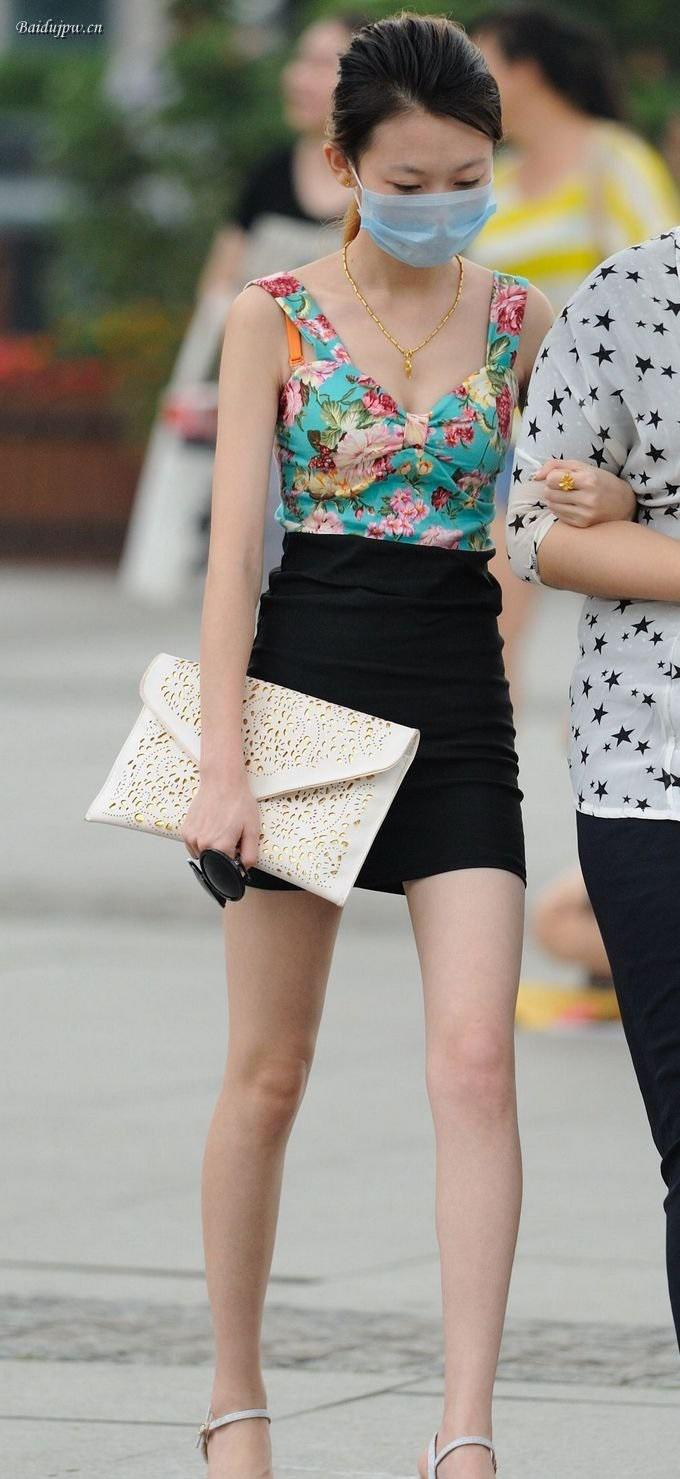OK: (371, 144, 496, 269)
